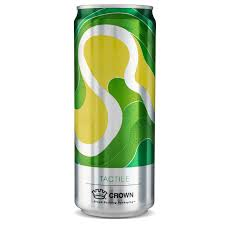can: (69, 3, 162, 223)
